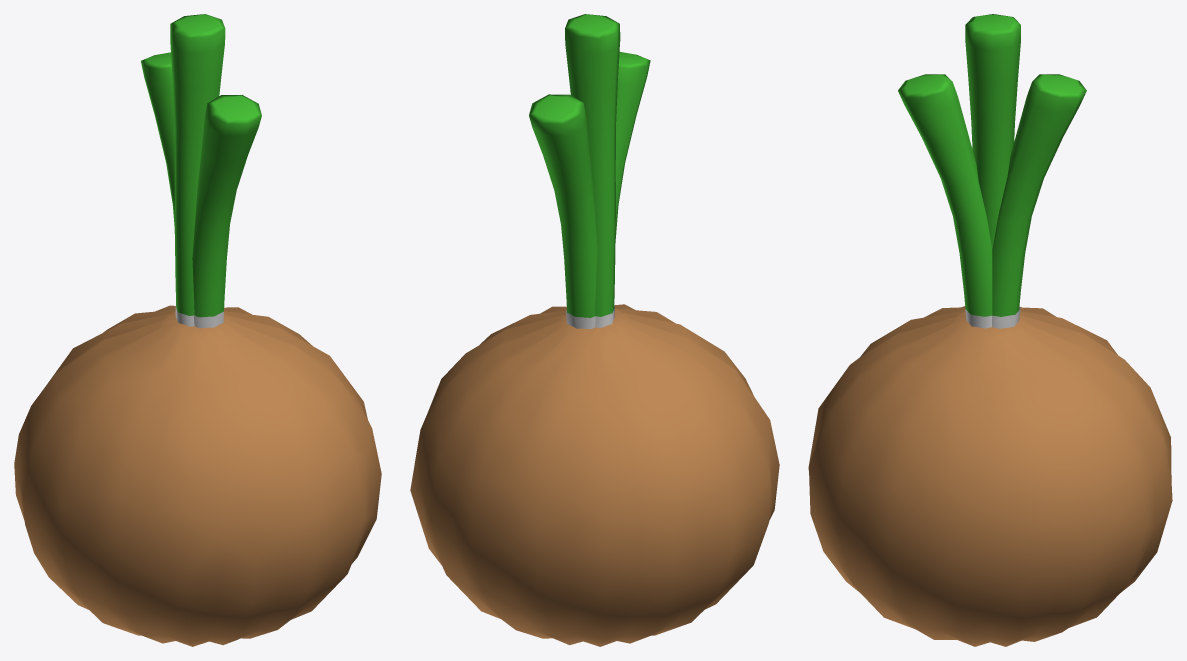
File: 2ºFase_cebolla.fbx
3 views of the same model, side by side, from view 1: azimuth 30°, elevation 25°; view 2: azimuth 150°, elevation 25°; view 3: azimuth 270°, elevation 25° (orthographic).
Parts seen in each view (by area): view 1: Sphere, Cube.007, Cube.006, Cube.005; view 2: Sphere, Cube.007, Cube.005, Cube.006; view 3: Sphere, Cube.006, Cube.005, Cube.007.
Boxes of the visible parts, bbox=[...] form: Sphere: bbox=[14, 305, 381, 646]; Cube.007: bbox=[170, 14, 225, 315]; Cube.006: bbox=[192, 95, 261, 317]; Cube.005: bbox=[141, 52, 174, 225]; Sphere: bbox=[410, 304, 779, 646]; Cube.007: bbox=[565, 14, 620, 316]; Cube.005: bbox=[529, 94, 597, 317]; Cube.006: bbox=[615, 52, 650, 238]; Sphere: bbox=[808, 306, 1172, 646]; Cube.006: bbox=[898, 74, 992, 316]; Cube.005: bbox=[992, 74, 1086, 316]; Cube.007: bbox=[965, 14, 1020, 248].
Bounding box in the file's own units: 66.34 × 124 × 66.32.
